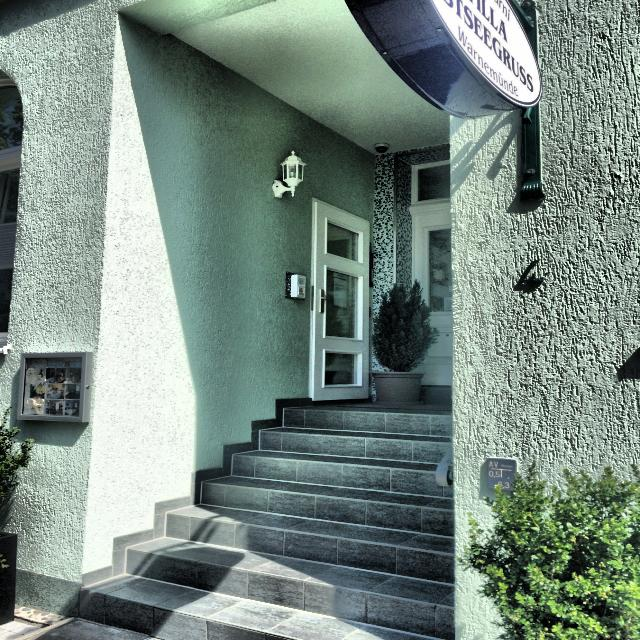escada: (89, 409, 456, 640)
